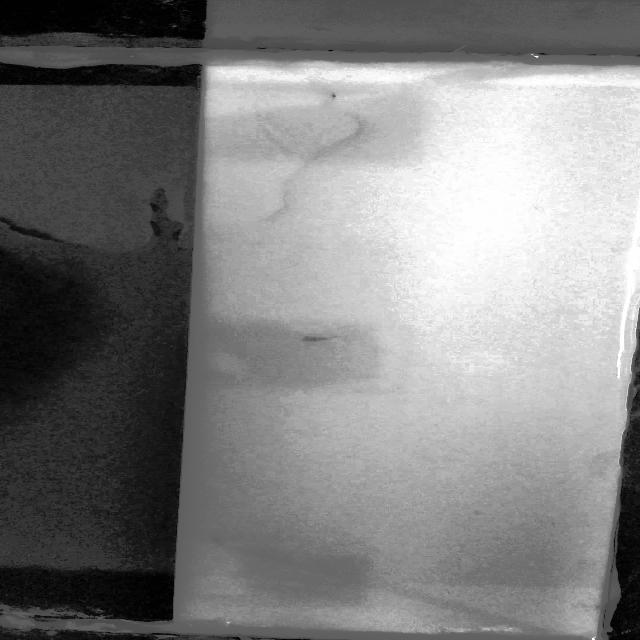shrimp: (299, 328, 358, 348), (321, 88, 346, 106), (207, 533, 229, 550)
